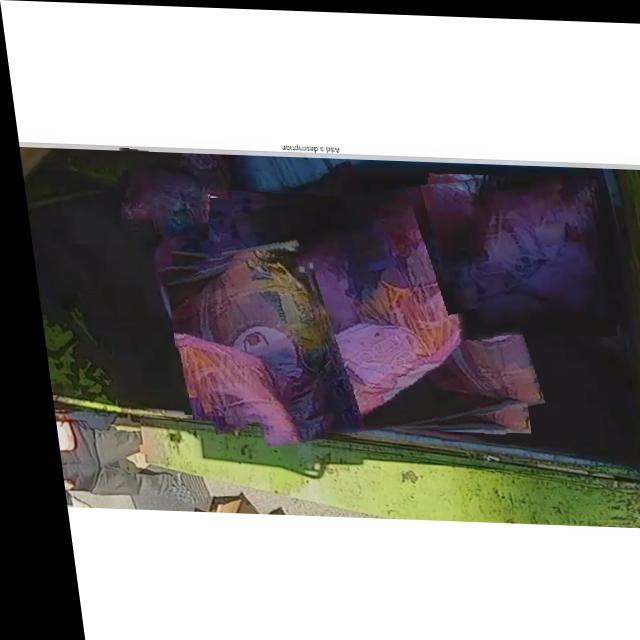other_trashbag: (224, 176, 476, 434), (440, 167, 594, 329), (163, 254, 315, 417), (116, 156, 226, 233)
